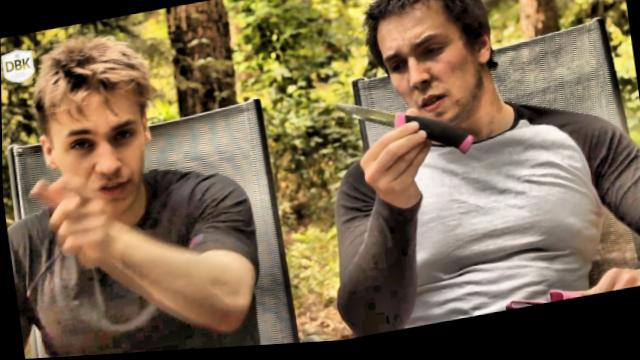knife: (318, 75, 478, 187)
